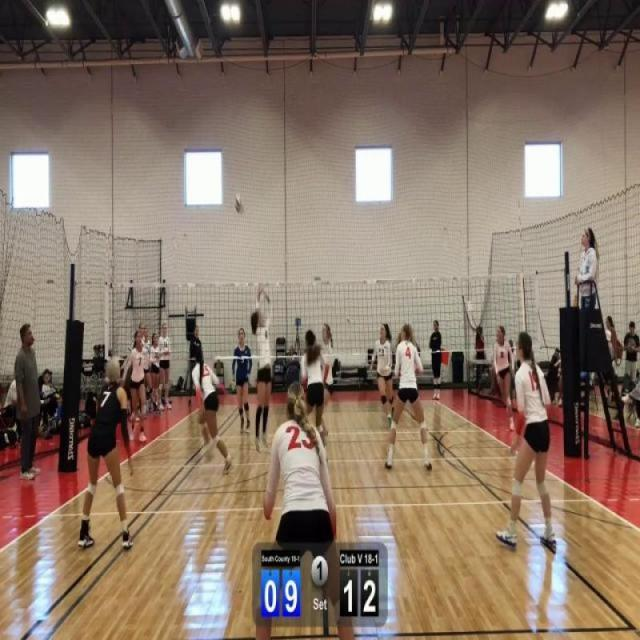volleyball: (233, 191, 246, 215)
